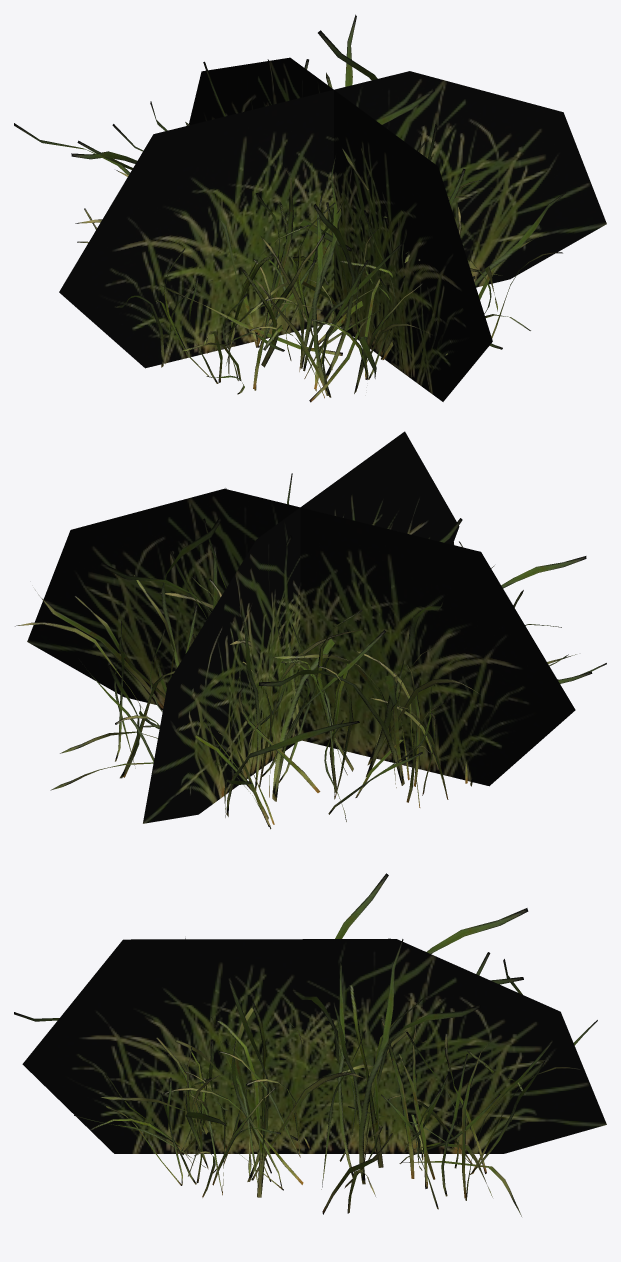
File: grass_LOD02.glb
3 views of the same model, one above another, from view 1: azimuth 30°, elevation 25°; view 2: azimuth 150°, elevation 25°; view 3: azimuth 270°, elevation 25° (orthographic). The views are drawn at different scales.
Visible parts, largest first — view 1: grass_medium_01_geonodes_large_a_LOD1; view 2: grass_medium_01_geonodes_large_a_LOD1; view 3: grass_medium_01_geonodes_large_a_LOD1.
Boxes of the visible parts, <box> form: grass_medium_01_geonodes_large_a_LOD1: <box>14,14,606,402</box>; grass_medium_01_geonodes_large_a_LOD1: <box>15,431,606,829</box>; grass_medium_01_geonodes_large_a_LOD1: <box>14,873,606,1216</box>.
Bounding box in the file's own units: 0.327 × 0.1449 × 0.3317.
Materials: 1 (1 with a texture image).
